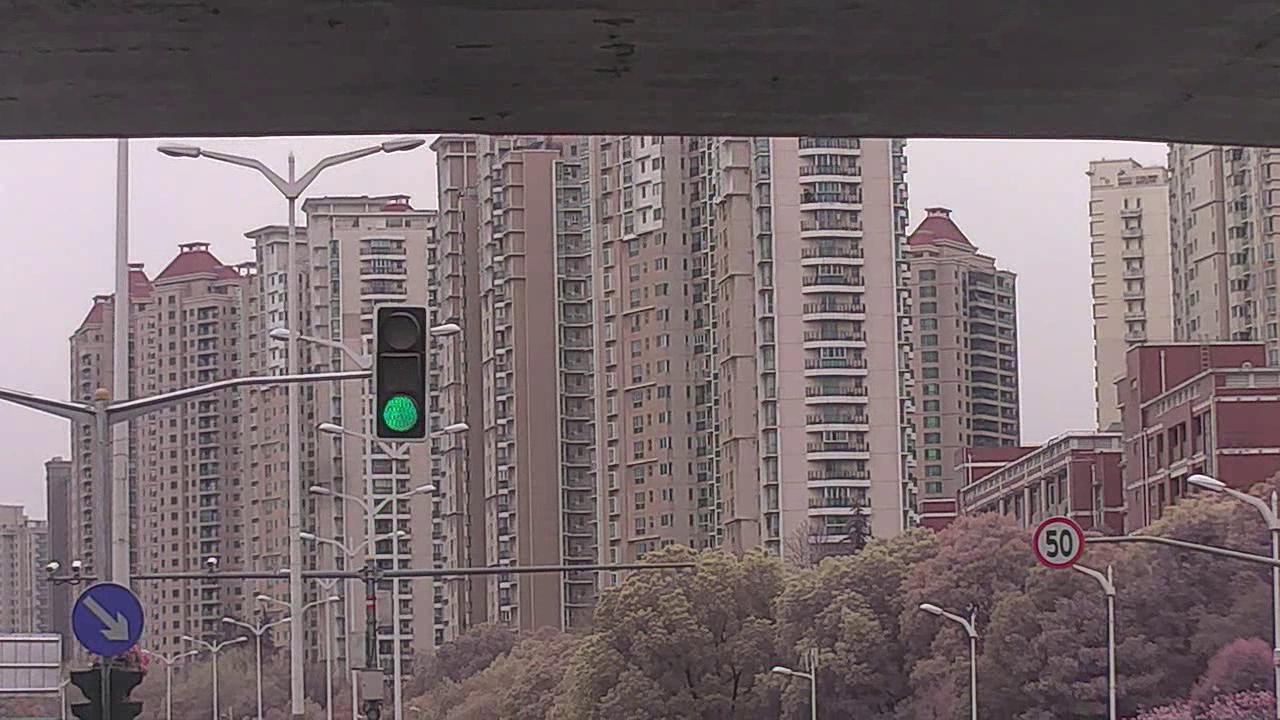traffic_light: (376, 302, 428, 443)
